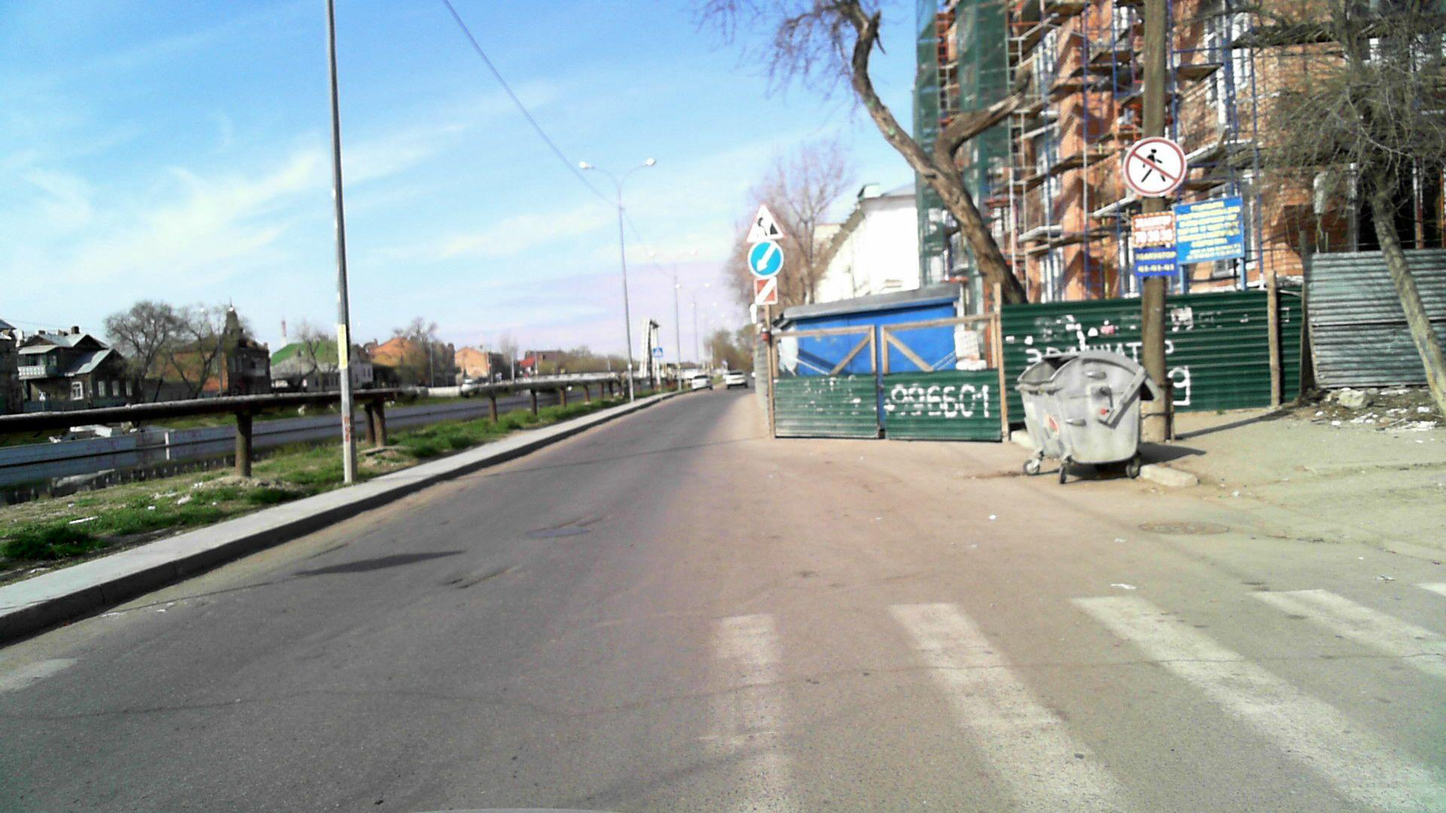obstructed_road_sign: (746, 204, 785, 242)
pothole: (454, 567, 518, 589), (578, 515, 609, 527), (446, 577, 463, 586)
road_sign: (1120, 135, 1188, 200), (748, 240, 784, 278), (754, 277, 777, 305)
